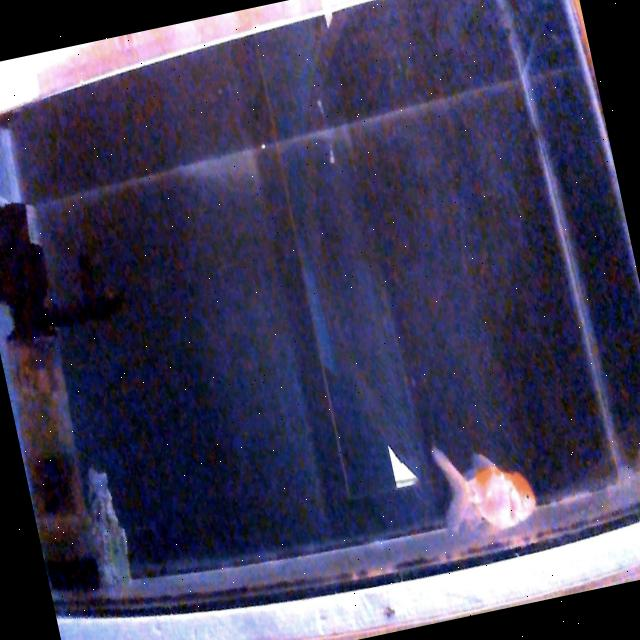fish: (429, 426, 541, 544)
